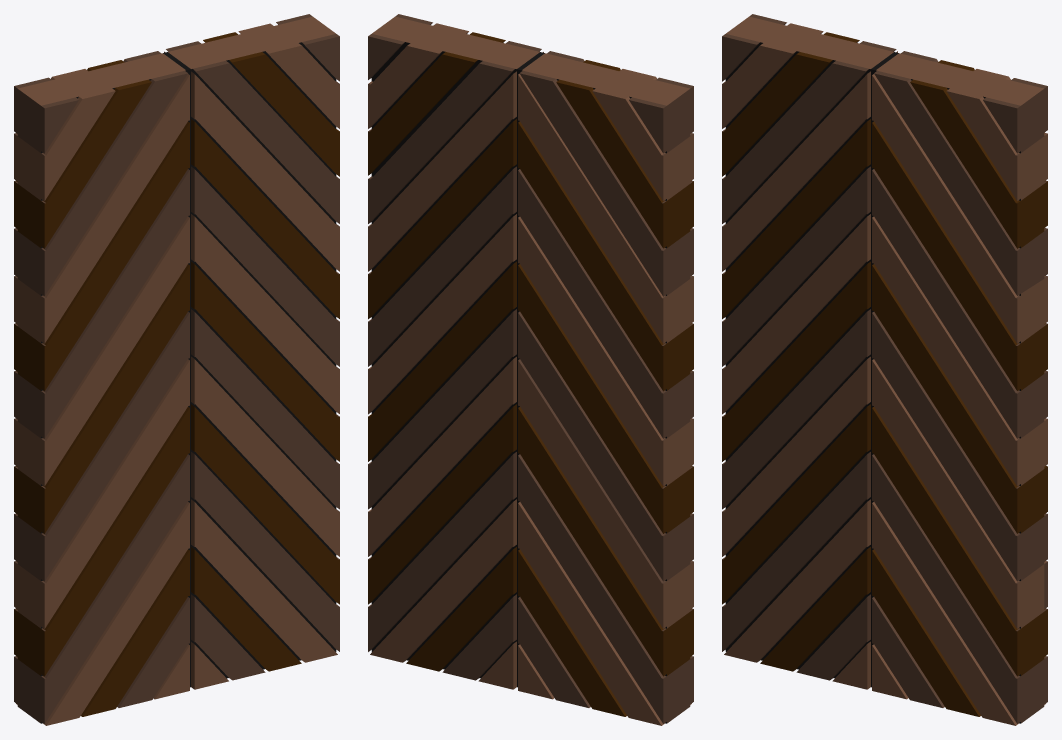
Rendered from ArrowBoardWall.glb.
3 renders of one model, left to right at view 1: azimuth 30°, elevation 25°; view 2: azimuth 150°, elevation 25°; view 3: azimuth 330°, elevation 25°, orthographic.
Visible parts, largest first — view 1: wall_arrowBoard; view 2: wall_arrowBoard; view 3: wall_arrowBoard.
Boxes of the visible parts, bbox=[...] form: wall_arrowBoard: bbox=[14, 14, 339, 725]; wall_arrowBoard: bbox=[368, 14, 693, 725]; wall_arrowBoard: bbox=[722, 14, 1047, 725].
Size of what is drawn, in the model's own units: 2 by 4 by 0.358.
Materials: 1 (1 with a texture image).
